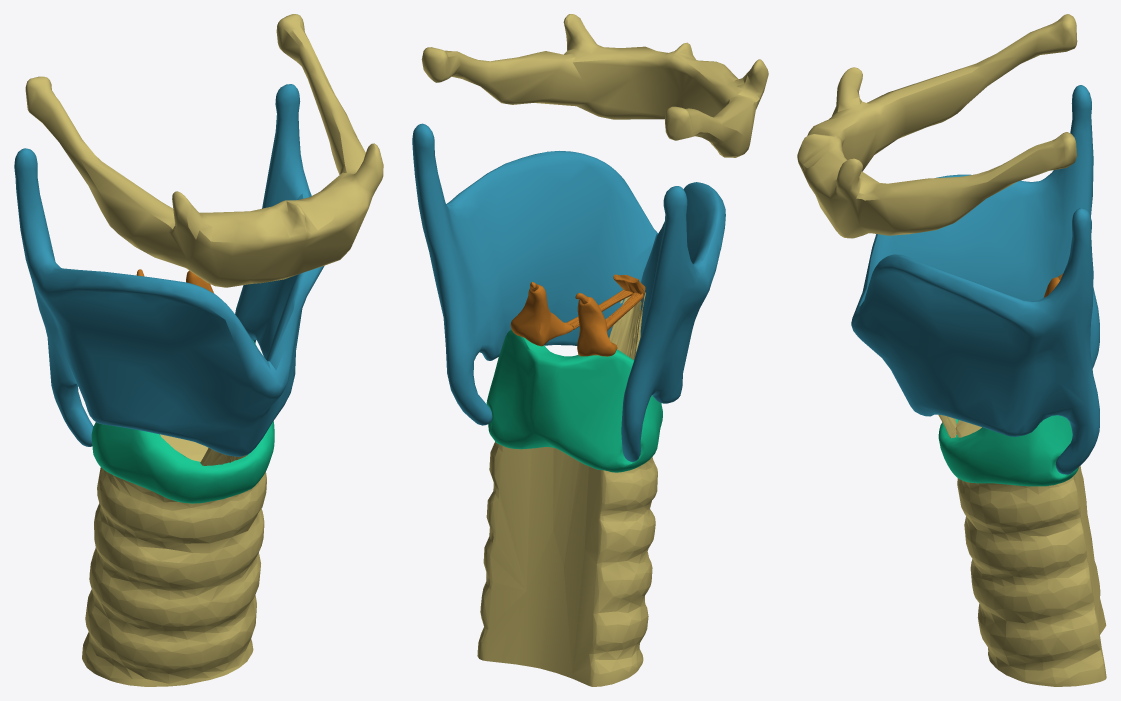
File: fbx_frame_0043.obj
3 views of the same model, side by side, from view 1: azimuth 30°, elevation 25°; view 2: azimuth 150°, elevation 25°; view 3: azimuth 270°, elevation 25° (orthographic). The views are drawn at different scales.
Visible parts, largest first — view 1: maya2sketchfab.010, maya2sketchfab.001, maya2sketchfab.011, maya2sketchfab.005; view 2: maya2sketchfab.010, maya2sketchfab.001, maya2sketchfab.011, maya2sketchfab.005, maya2sketchfab.006, maya2sketchfab.004; view 3: maya2sketchfab.010, maya2sketchfab.001, maya2sketchfab.011, maya2sketchfab.005.
Boxes of the visible parts, <box> form: maya2sketchfab.010: <box>14,84,324,456</box>; maya2sketchfab.001: <box>82,434,266,686</box>; maya2sketchfab.011: <box>25,14,383,287</box>; maya2sketchfab.005: <box>91,339,274,503</box>; maya2sketchfab.010: <box>412,123,725,462</box>; maya2sketchfab.001: <box>477,292,657,686</box>; maya2sketchfab.011: <box>421,14,768,157</box>; maya2sketchfab.005: <box>486,329,662,472</box>; maya2sketchfab.006: <box>510,282,573,346</box>; maya2sketchfab.004: <box>575,293,617,356</box>; maya2sketchfab.010: <box>851,85,1099,474</box>; maya2sketchfab.001: <box>938,414,1106,686</box>; maya2sketchfab.011: <box>797,14,1077,238</box>; maya2sketchfab.005: <box>938,415,1078,486</box>.
Size of the model in its own units: 38.66 by 78.55 by 38.24.
